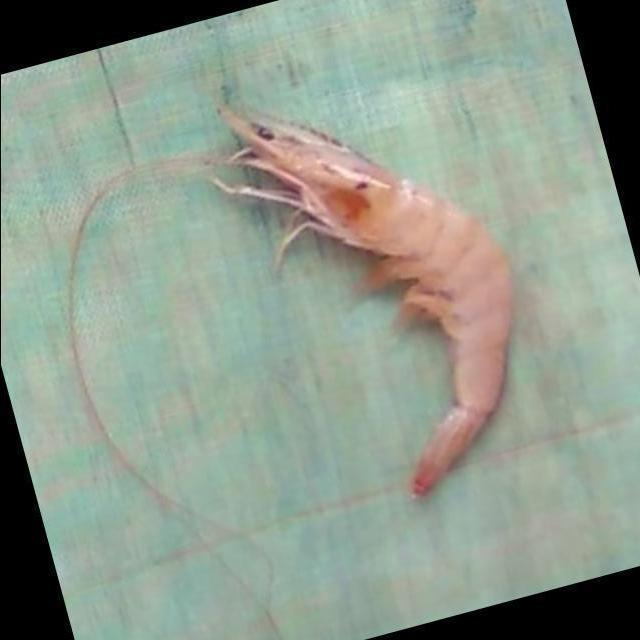shrimp: (213, 106, 514, 497)
